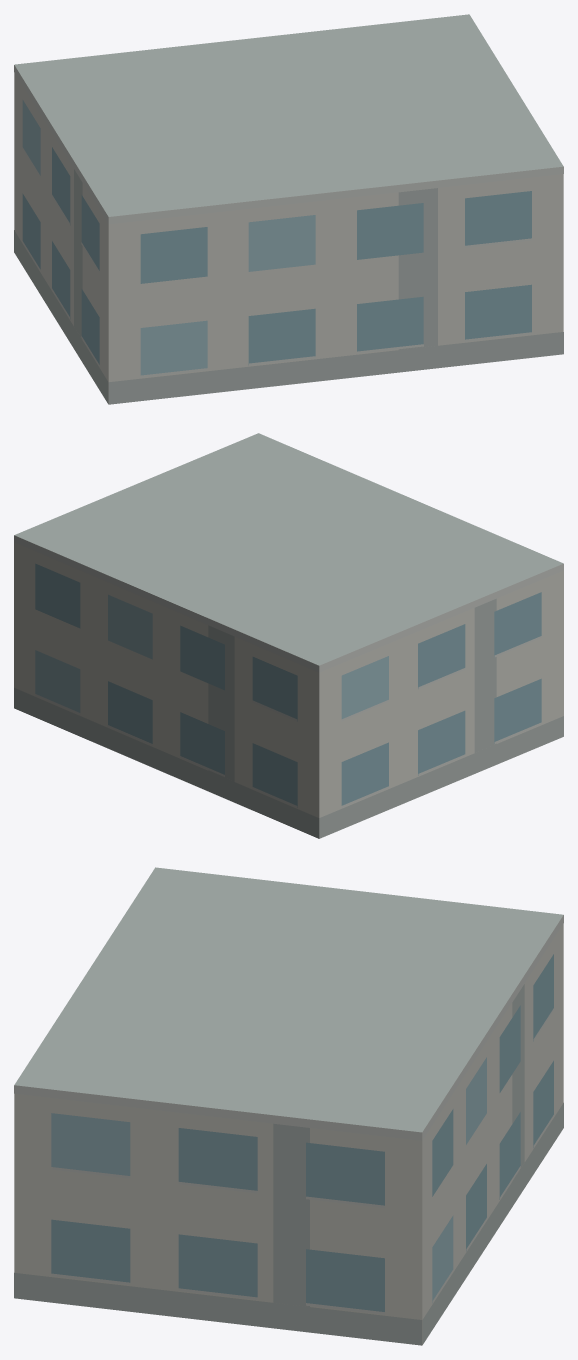
Rendered from residential-822fff37-867b-4dcc-88c0-f9f6e2fdf24b.glb.
3 views of the same model, one above another, from view 1: azimuth 30°, elevation 25°; view 2: azimuth 150°, elevation 25°; view 3: azimuth 270°, elevation 25° (orthographic). The views are drawn at different scales.
Parts seen in each view (by area): view 1: residential-822fff37-867b-4dcc-88c0-f9f6e2fdf24b.tmp; view 2: residential-822fff37-867b-4dcc-88c0-f9f6e2fdf24b.tmp; view 3: residential-822fff37-867b-4dcc-88c0-f9f6e2fdf24b.tmp.
Part boxes in pixels (<box>): residential-822fff37-867b-4dcc-88c0-f9f6e2fdf24b.tmp: <box>14,14,563,404</box>; residential-822fff37-867b-4dcc-88c0-f9f6e2fdf24b.tmp: <box>14,433,563,838</box>; residential-822fff37-867b-4dcc-88c0-f9f6e2fdf24b.tmp: <box>14,867,563,1345</box>.
Size of the model in its own units: 16.29 by 6.1 by 14.27.
